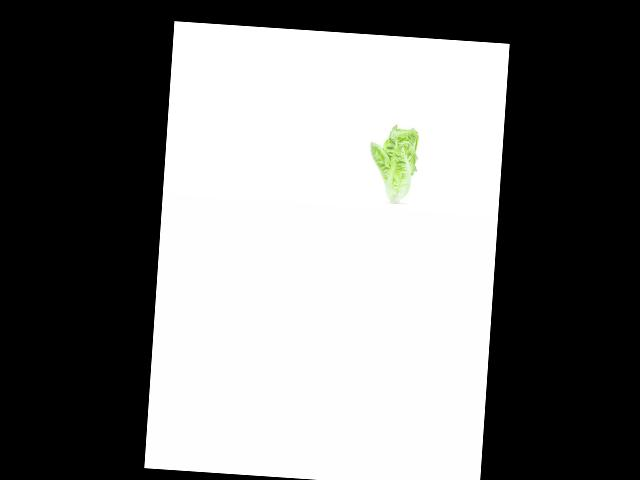lettuce: (366, 122, 423, 201)
